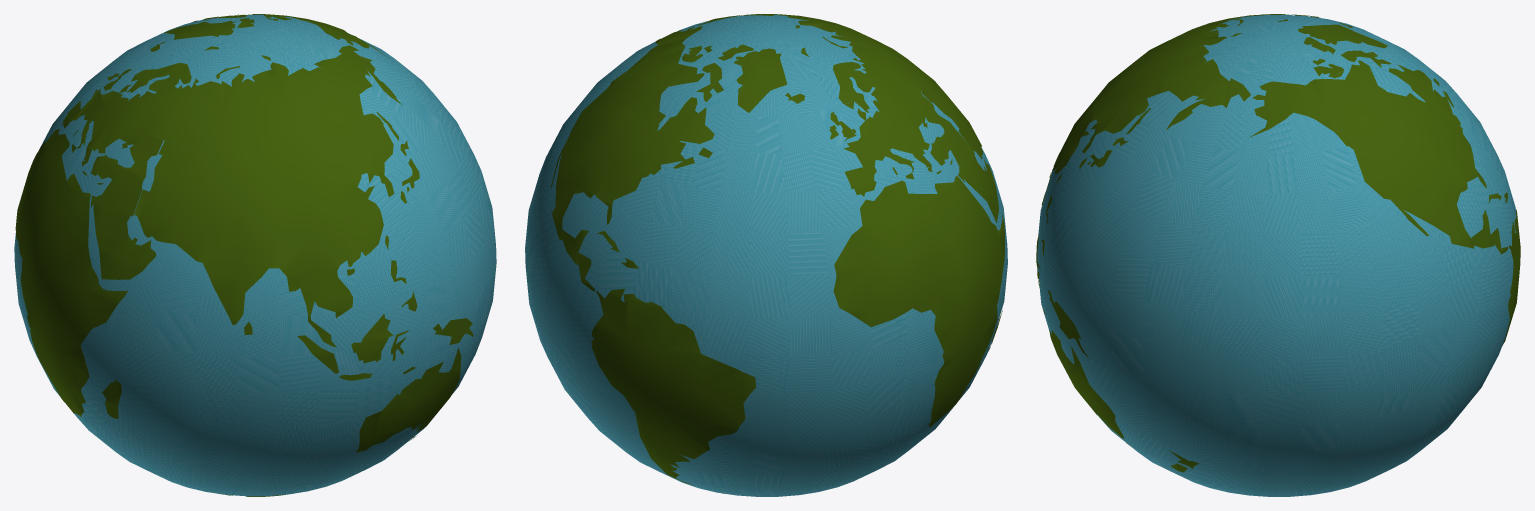
File: Mundo.fbx
3 views of the same model, side by side, from view 1: azimuth 30°, elevation 25°; view 2: azimuth 150°, elevation 25°; view 3: azimuth 270°, elevation 25° (orthographic).
Parts seen in each view (by area): view 1: Group2, Group1; view 2: Group2, Group1; view 3: Group2, Group1.
Boxes of the visible parts, bbox=[...] form: Group2: bbox=[14, 14, 496, 496]; Group1: bbox=[15, 14, 473, 496]; Group2: bbox=[525, 14, 1007, 496]; Group1: bbox=[551, 14, 1004, 493]; Group2: bbox=[1037, 14, 1516, 496]; Group1: bbox=[1036, 14, 1520, 472].
Size of the model in its own units: 245514 by 245761 by 245938.
